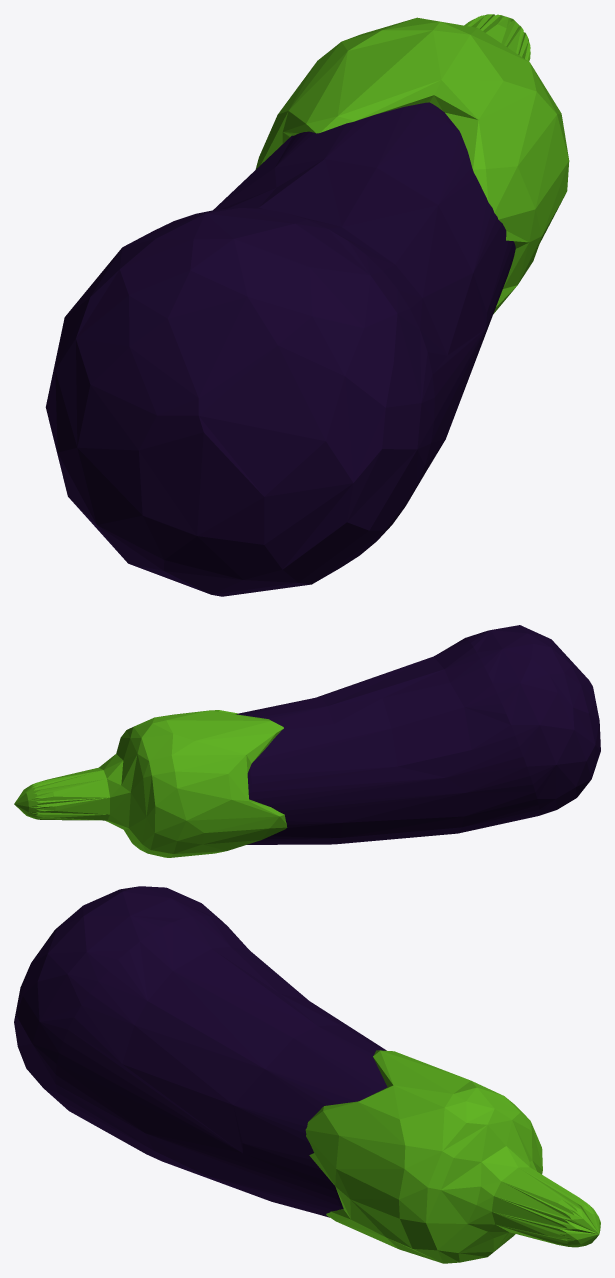
Rendered from Eggplant.obj.
3 renders of one model, top to bottom at view 1: azimuth 30°, elevation 25°; view 2: azimuth 150°, elevation 25°; view 3: azimuth 270°, elevation 25°, orthographic. The views are drawn at different scales.
Parts seen in each view (by area): view 1: Cylinder004, Cylinder003; view 2: Cylinder004, Cylinder003; view 3: Cylinder004, Cylinder003.
Part boxes in pixels (x1,y1,x2,y2): Cylinder004: (45,102,515,596); Cylinder003: (255,14,569,313); Cylinder004: (236,625,600,844); Cylinder003: (14,710,287,857); Cylinder004: (14,886,387,1217); Cylinder003: (305,1050,600,1263).
Bounding box in the file's own units: 1524 × 674 × 1534.
